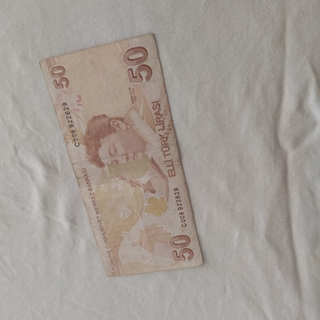50TLBack: (39, 32, 203, 278)
